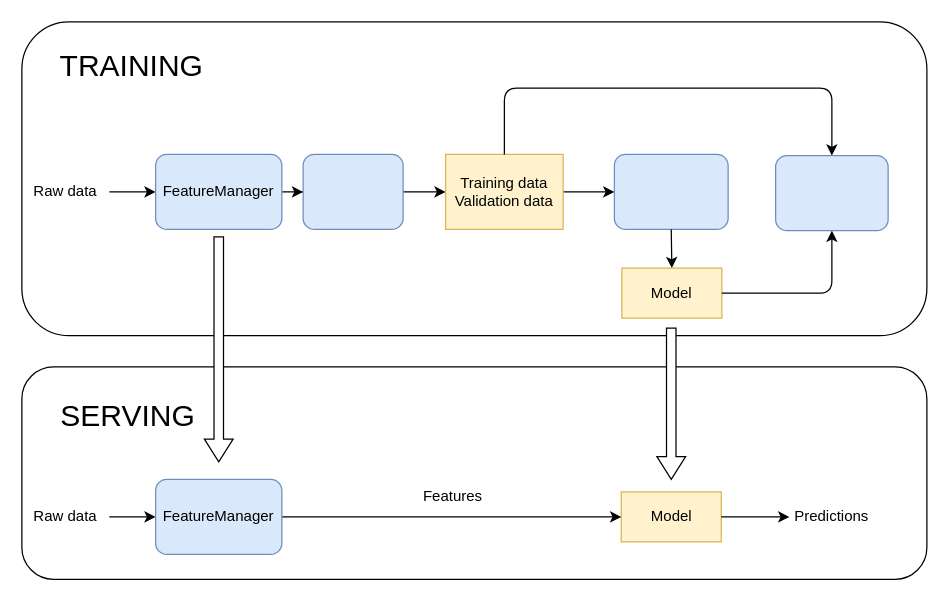
Image size: 949x601. Some labels were removed from this diagram. Here are the shapes that lost their labels. From the top down, the centre of each, then its label:
point (352, 191): DataLoader
point (670, 191): ModelWrapper
point (831, 192): ModelAnalysis
